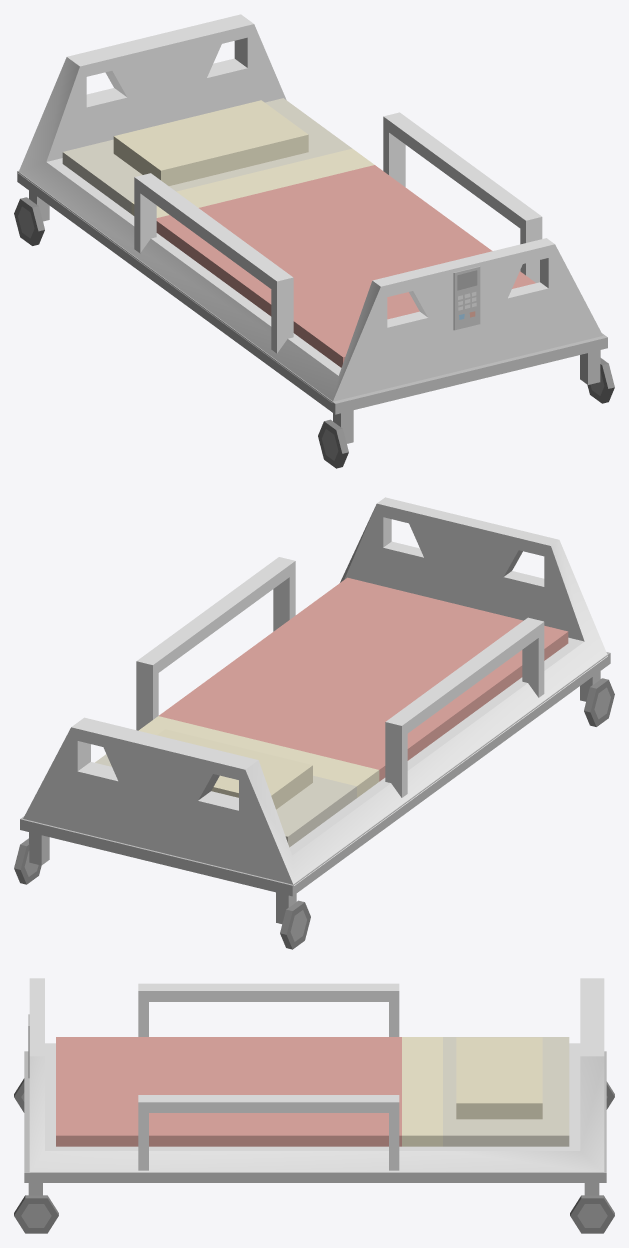
The model's file is bunk.fbx.
The picture shows the model from 3 angles, top to bottom: view 1: azimuth 30°, elevation 25°; view 2: azimuth 150°, elevation 25°; view 3: azimuth 270°, elevation 25°; orthographic projection. The views are drawn at different scales.
Parts seen in each view (by area): view 1: Cube_75_1; view 2: Cube_75_1; view 3: Cube_75_1.
Boxes of the visible parts, <box> form: Cube_75_1: <box>14,14,614,468</box>; Cube_75_1: <box>14,497,614,949</box>; Cube_75_1: <box>14,978,614,1233</box>.
Size of the model in its own units: 53.22 by 31.27 by 110.
